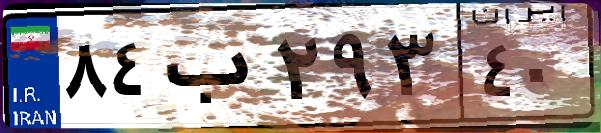0: (525, 38, 570, 115)
2: (270, 28, 330, 110)
3: (385, 28, 445, 110)
4: (475, 38, 525, 113), (110, 28, 158, 98)
8: (57, 26, 110, 100)
9: (330, 28, 385, 110)
ب: (158, 20, 270, 120)
